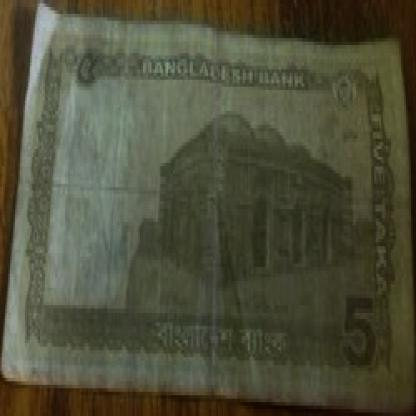Five Taka: (338, 284, 383, 382), (66, 35, 105, 104)
